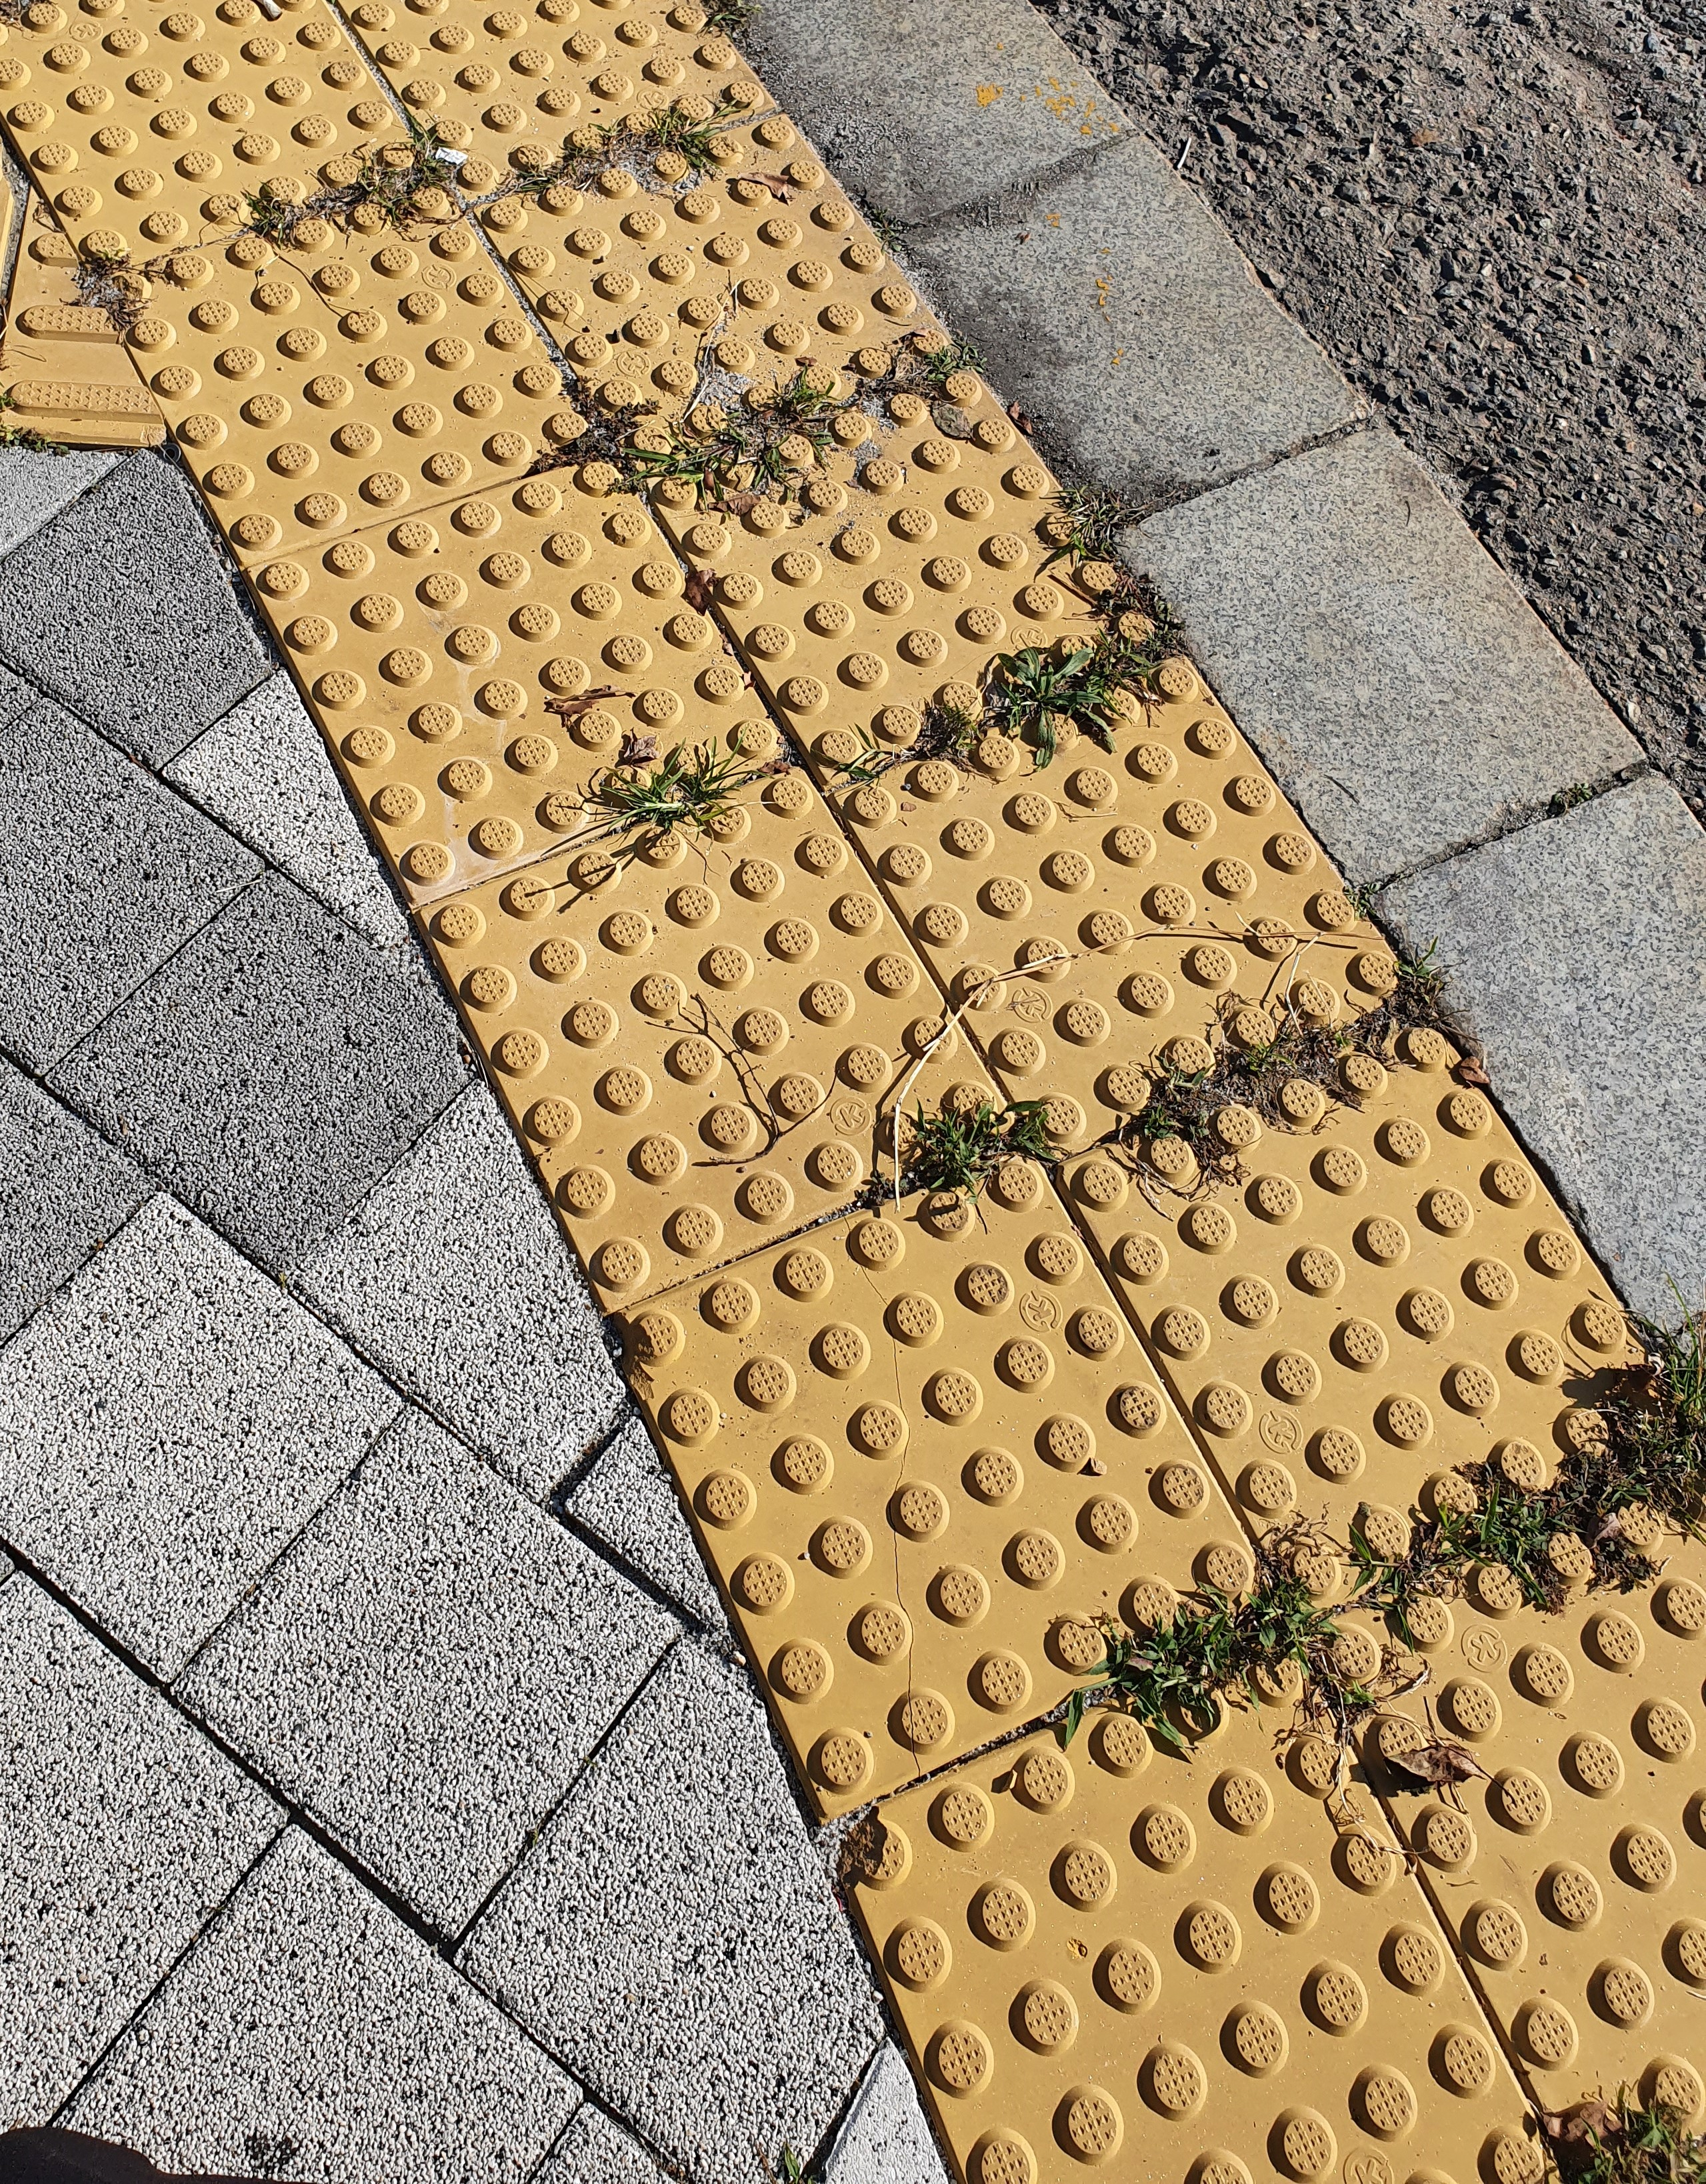warningBlock: (1091, 961, 1665, 1576), (665, 1257, 1238, 1723), (915, 1751, 1507, 2184), (449, 837, 1007, 1267), (207, 514, 807, 833), (1373, 1569, 1706, 2083), (860, 778, 1332, 1108), (686, 418, 1091, 732), (4, 5, 408, 229), (172, 216, 555, 445), (555, 177, 888, 409)
